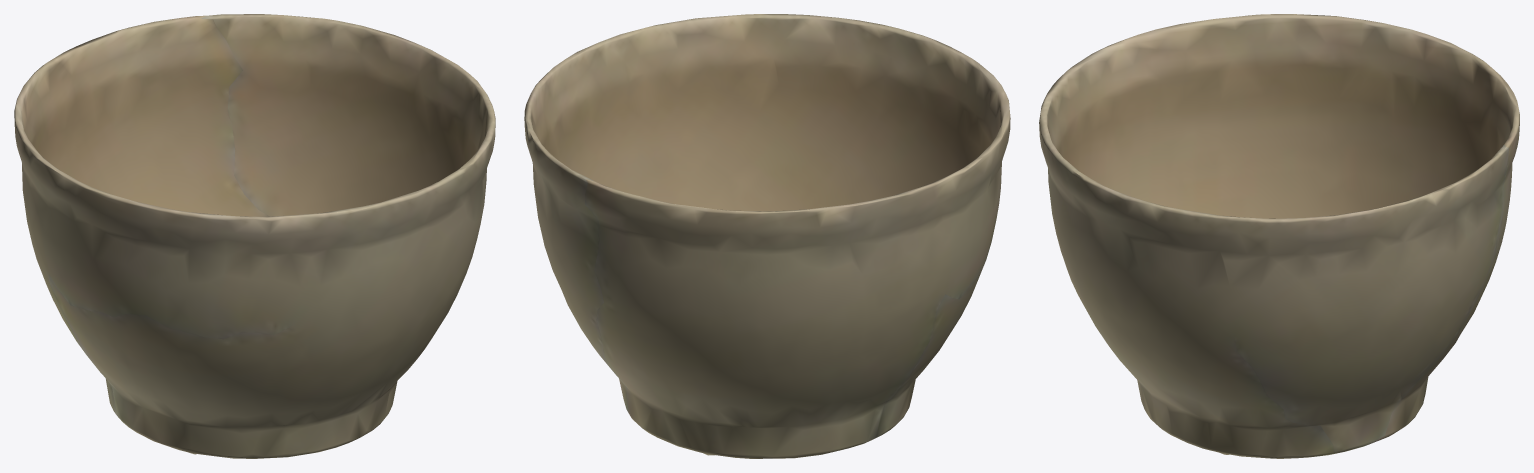
Rendered from Footed_Bowl_Sand-high.glb.
The picture shows the model from 3 angles, left to right: view 1: azimuth 30°, elevation 25°; view 2: azimuth 150°, elevation 25°; view 3: azimuth 270°, elevation 25°; orthographic projection.
Visible parts, largest first — view 1: Footed_Bowl_Sand; view 2: Footed_Bowl_Sand; view 3: Footed_Bowl_Sand.
Boxes of the visible parts, bbox=[...] form: Footed_Bowl_Sand: bbox=[14, 14, 495, 458]; Footed_Bowl_Sand: bbox=[524, 14, 1010, 458]; Footed_Bowl_Sand: bbox=[1039, 14, 1519, 458].
Size of the model in its own units: 0.1609 by 0.1088 by 0.1615.
1 material, 1 textured.
